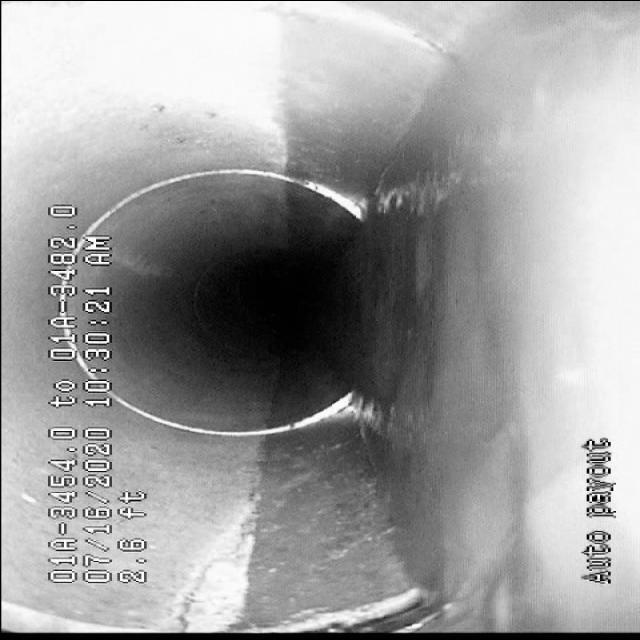Crack: (156, 484, 296, 616)
